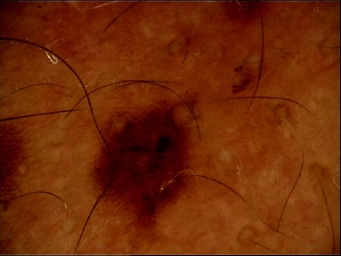melanoma: (94, 102, 189, 229)
